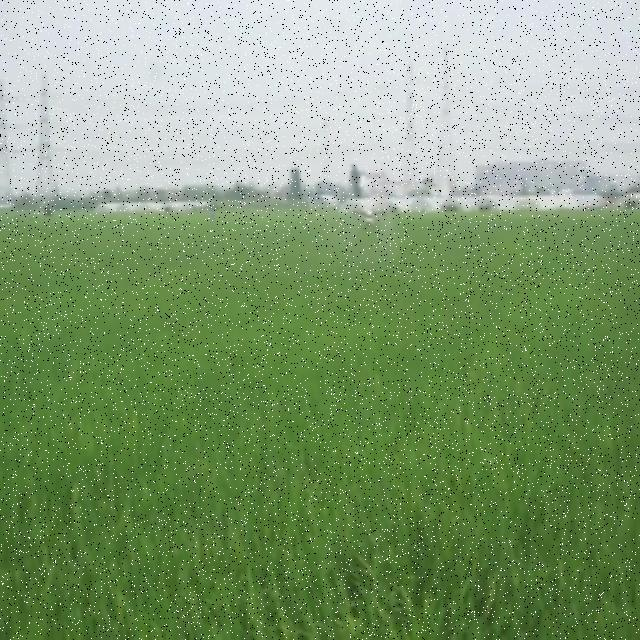UAV: (352, 209, 380, 229)
